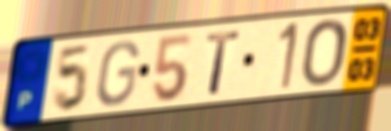1: (276, 19, 300, 93)
5: (49, 41, 94, 115), (151, 31, 195, 105)
G: (94, 38, 142, 109)
O: (299, 16, 350, 89)
T: (204, 28, 243, 97)
